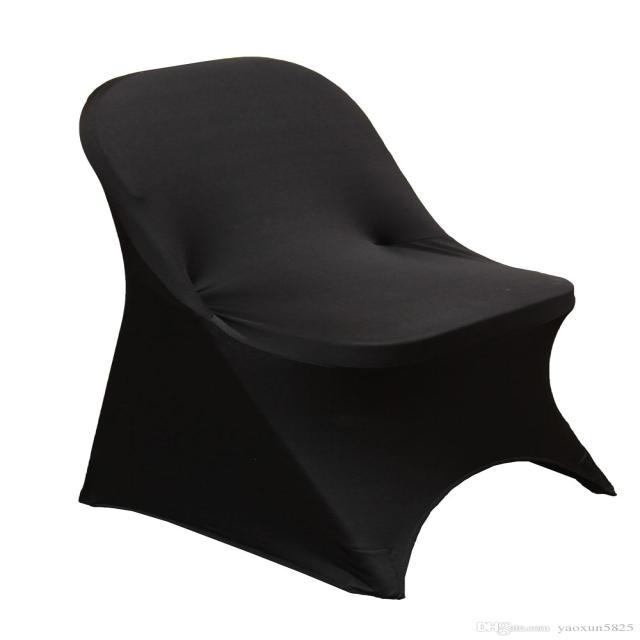Chair: (77, 51, 625, 601)
